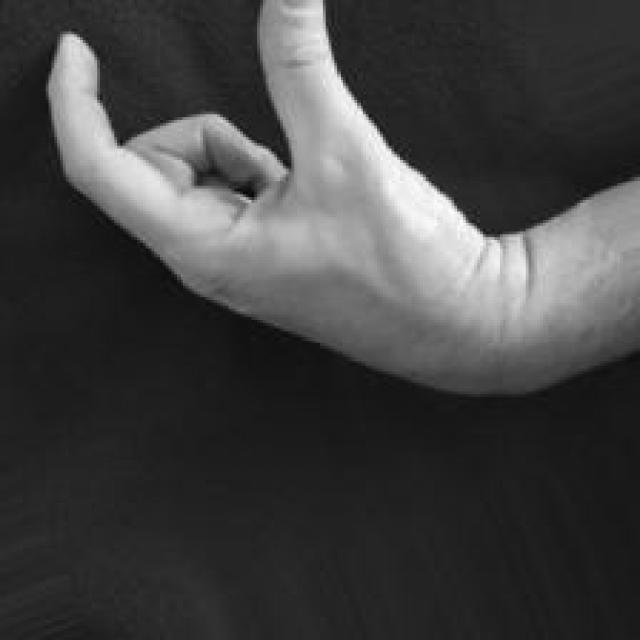U: (40, 0, 514, 397)
